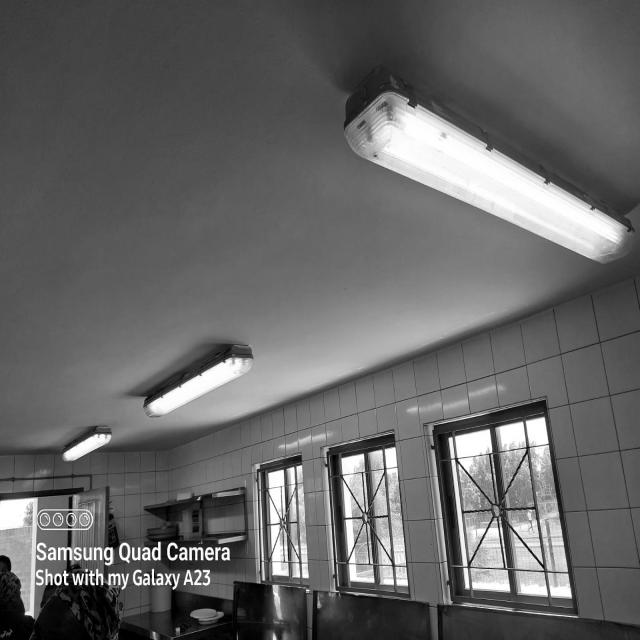light: (342, 65, 636, 266), (142, 343, 254, 418), (61, 425, 112, 462)
